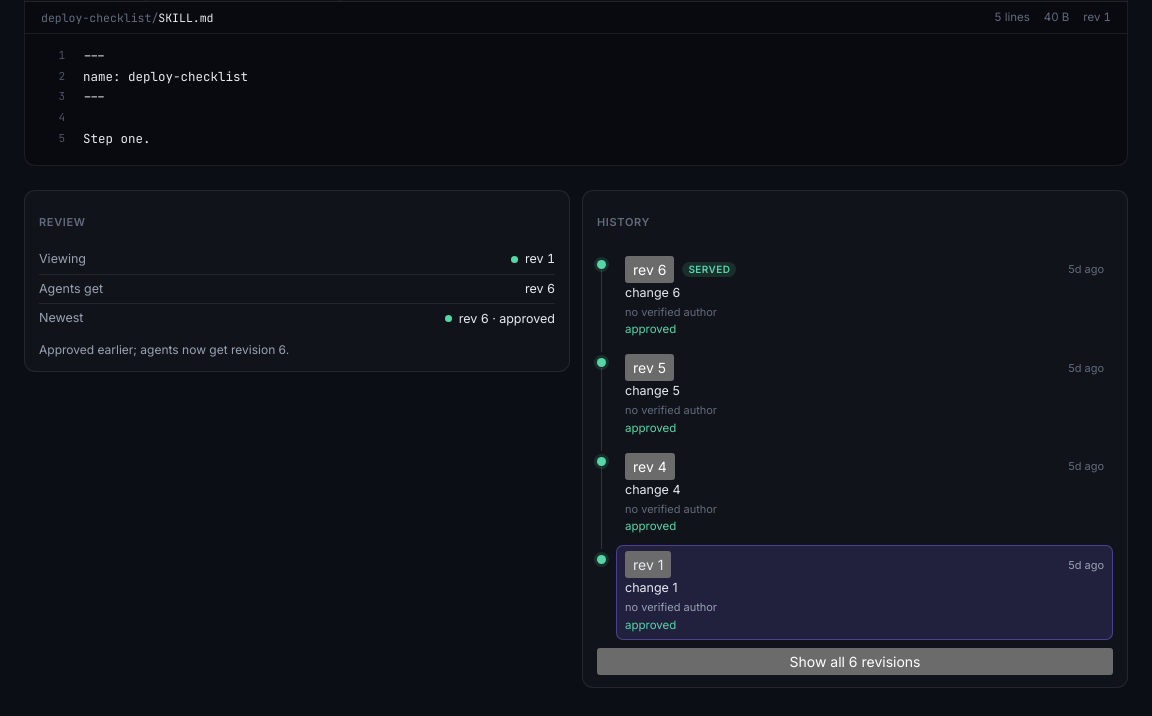
Test case: SkillDetail › shows the newest revisions and the viewed one, and expands to all of them
(page scrolled)
Check: the button "rev 6" is shown, box [625,256,674,283]
Check: the button "rev 1" is shown, box [625,551,671,578]
Click the button "Show all 6 revisions".
click(855, 661)  # box [597,648,1113,675]
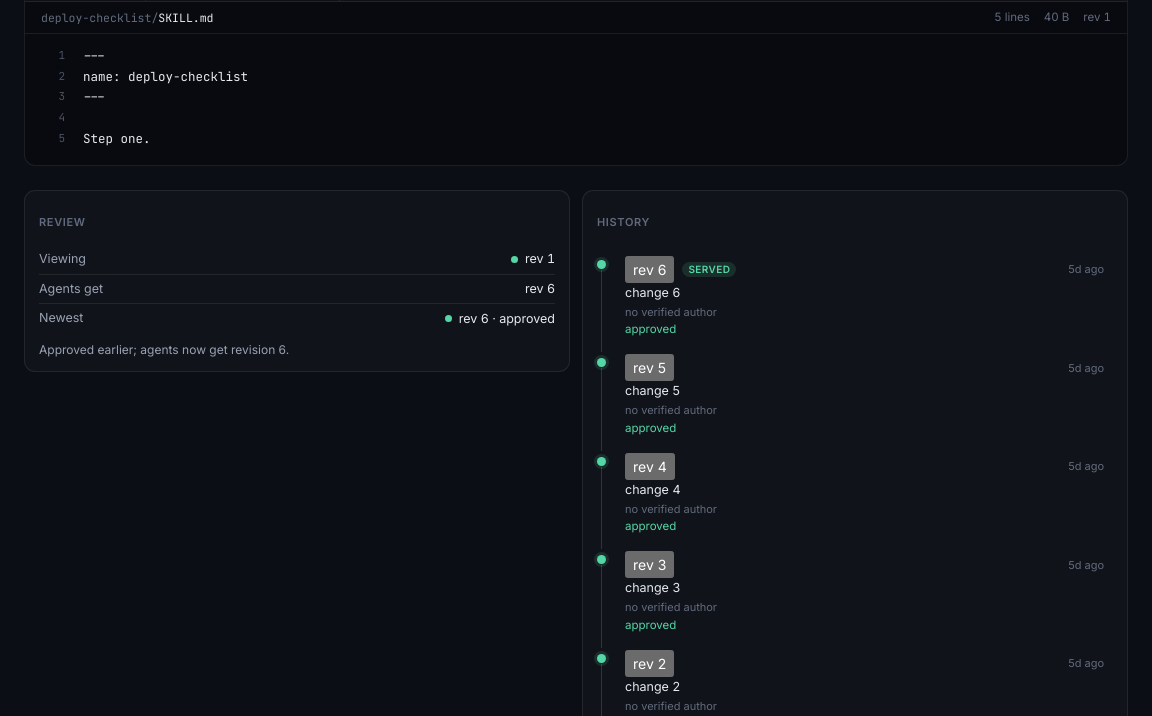
Check: the button "rev 2" is shown, box [625,650,674,677]
